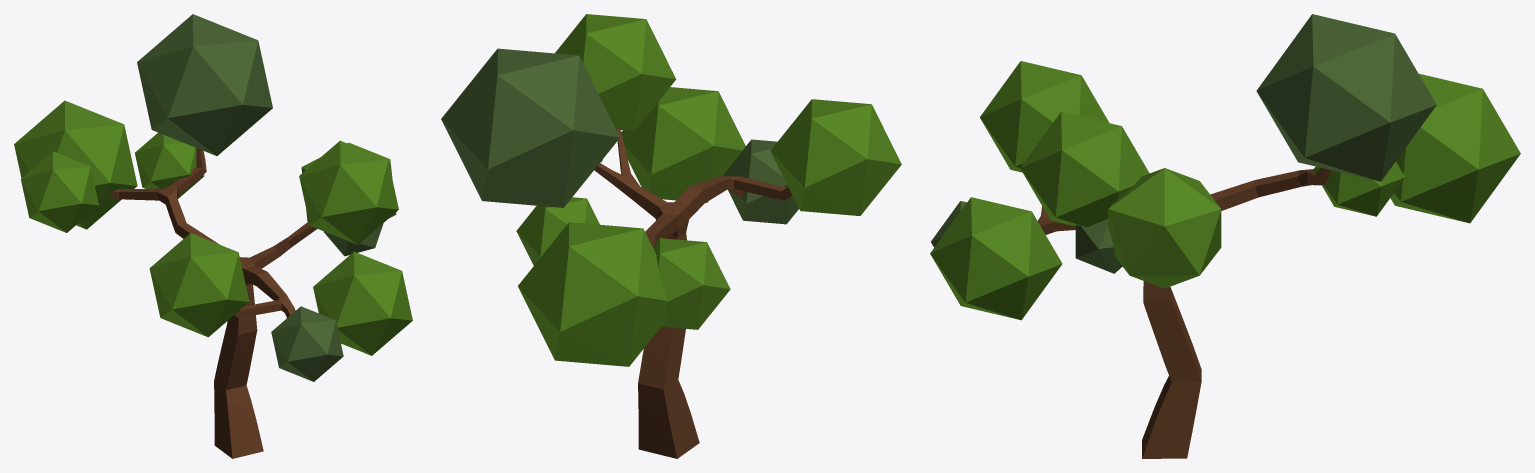
The model's file is Tree1.fbx.
3 views of the same model, side by side, from view 1: azimuth 30°, elevation 25°; view 2: azimuth 150°, elevation 25°; view 3: azimuth 270°, elevation 25° (orthographic). The views are drawn at different scales.
Visible parts, largest first — view 1: Tree1; view 2: Tree1; view 3: Tree1.
Boxes of the visible parts, box(x1,y1,x2,y2) form: Tree1: box(14, 14, 412, 458); Tree1: box(441, 14, 901, 458); Tree1: box(930, 14, 1520, 458).
Size of the model in its own units: 445 by 544 by 656.
